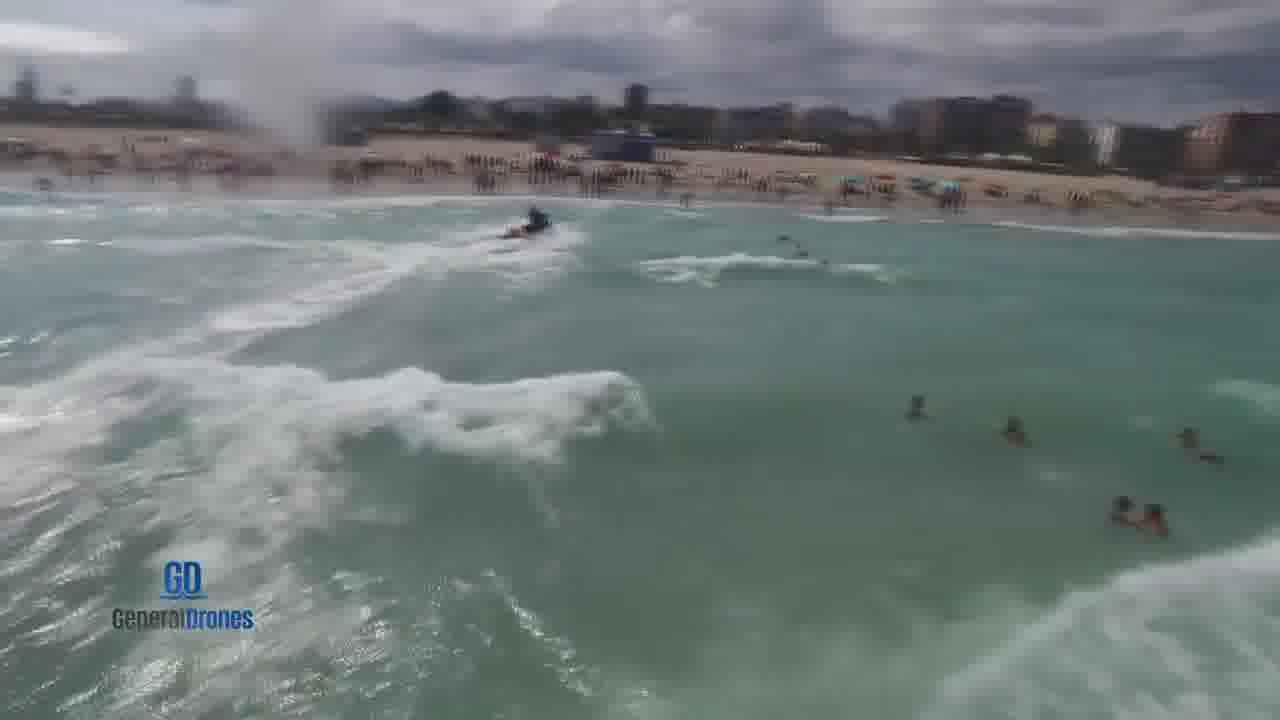human: (1172, 409, 1224, 482), (985, 409, 1036, 450), (1145, 481, 1171, 539), (890, 375, 921, 422), (1104, 484, 1128, 519), (790, 234, 809, 273)
